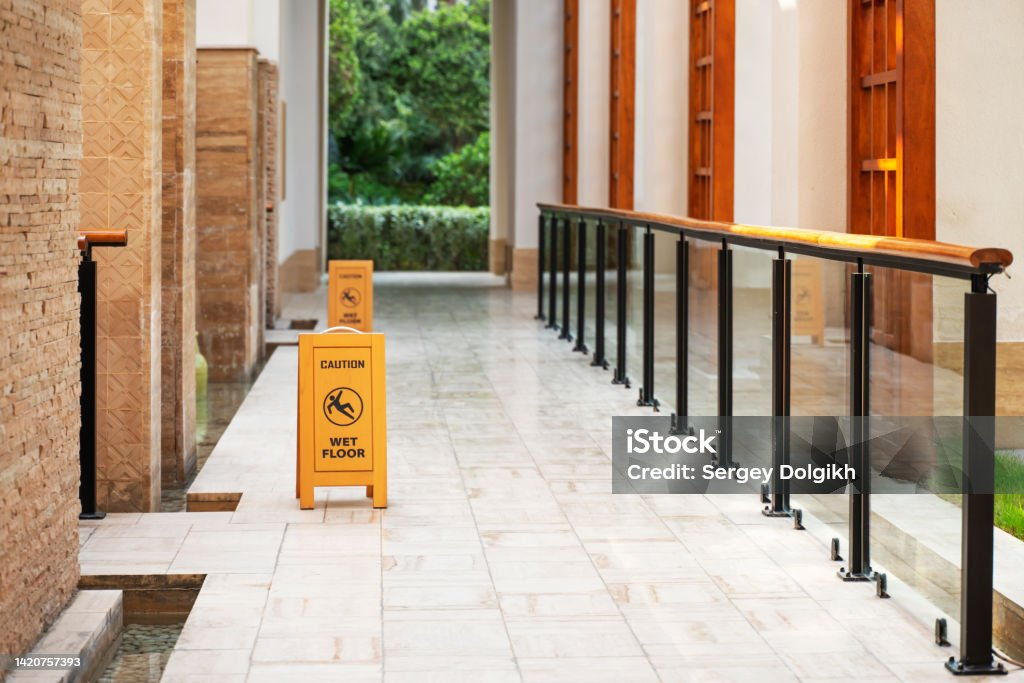wet caution sign: (299, 337, 381, 503), (329, 255, 367, 334)
